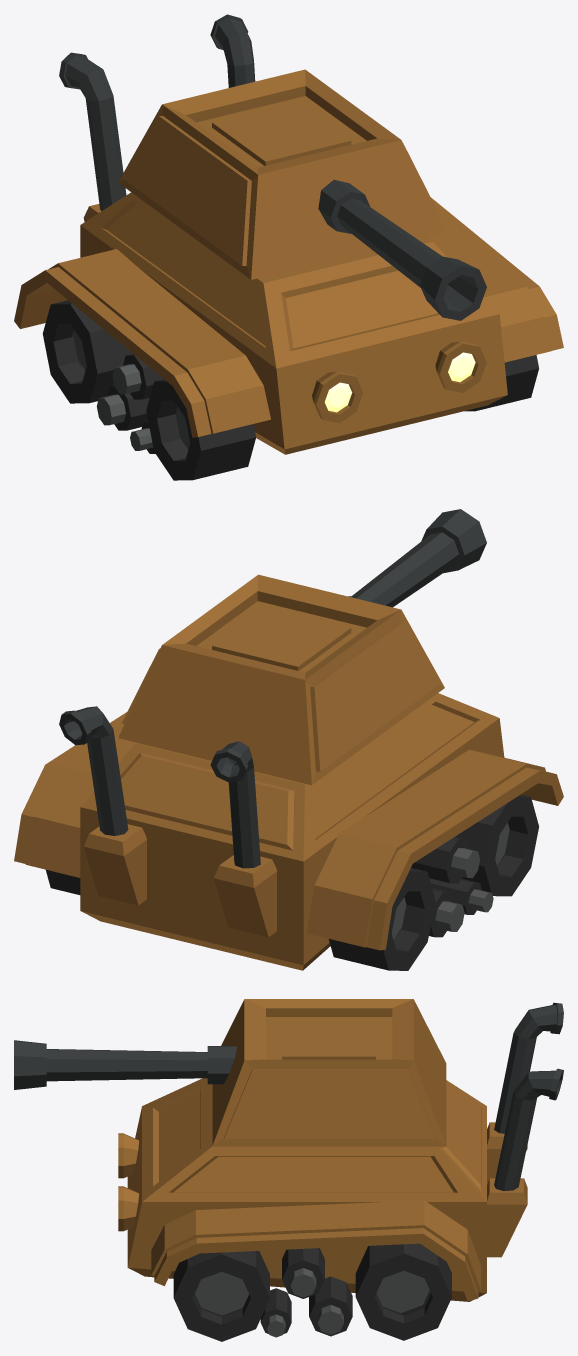
Rendered from tanque2.gltf.
3 renders of one model, top to bottom at view 1: azimuth 30°, elevation 25°; view 2: azimuth 150°, elevation 25°; view 3: azimuth 270°, elevation 25°, orthographic. The views are drawn at different scales.
Visible parts, largest first — view 1: head; view 2: head; view 3: head.
Boxes of the visible parts, <box> form: head: <box>14,14,563,480</box>; head: <box>14,509,563,970</box>; head: <box>14,999,563,1341</box>.
Bounding box in the file's own units: 3.28 × 2.33 × 4.85.
